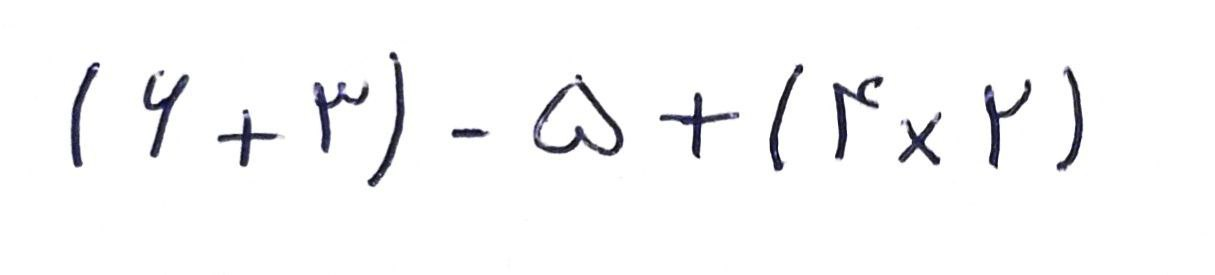character: (531, 75, 623, 155), (658, 94, 742, 159), (366, 52, 406, 187), (312, 79, 371, 157), (831, 76, 883, 162), (985, 79, 1033, 168), (143, 68, 189, 160), (768, 62, 804, 171), (216, 108, 282, 165), (68, 62, 103, 167), (1055, 65, 1085, 171), (898, 113, 942, 167), (450, 125, 492, 140)
